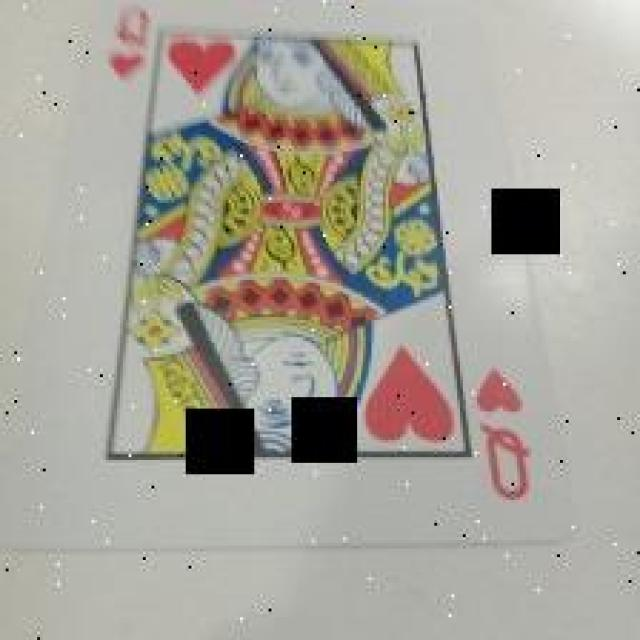Queen of hearts: (0, 1, 579, 550)
